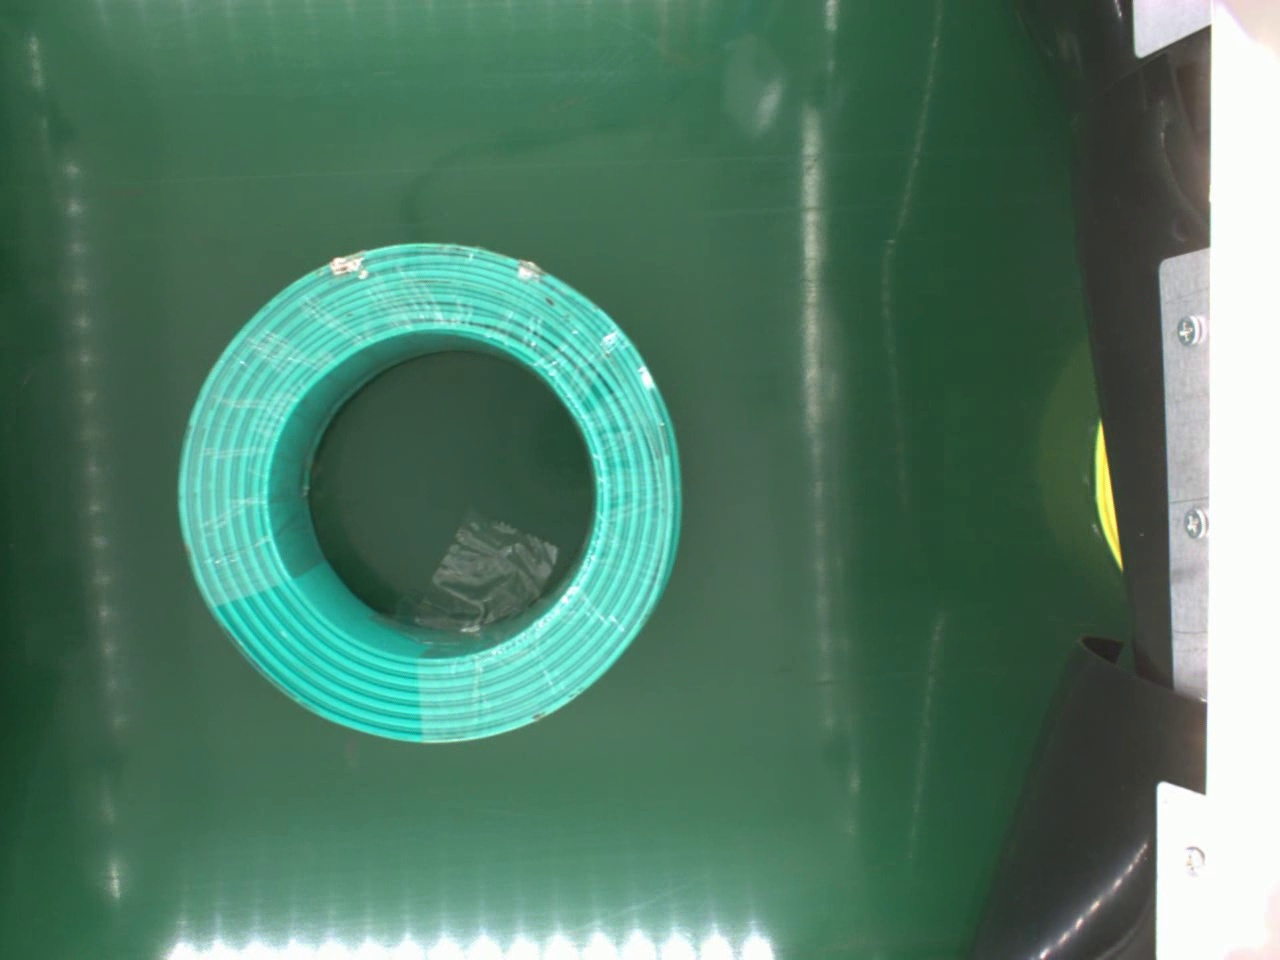green: (175, 242, 679, 750)
